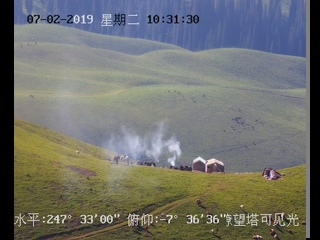smoke: (107, 123, 181, 166)
